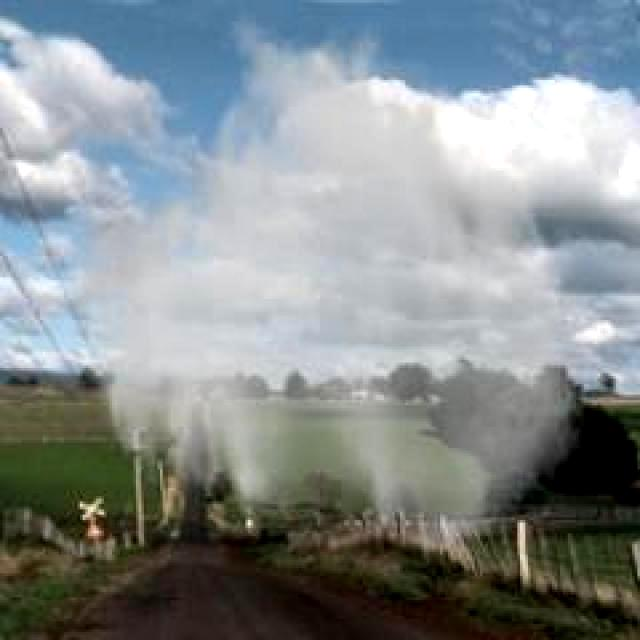Smoke: (65, 8, 591, 558)
